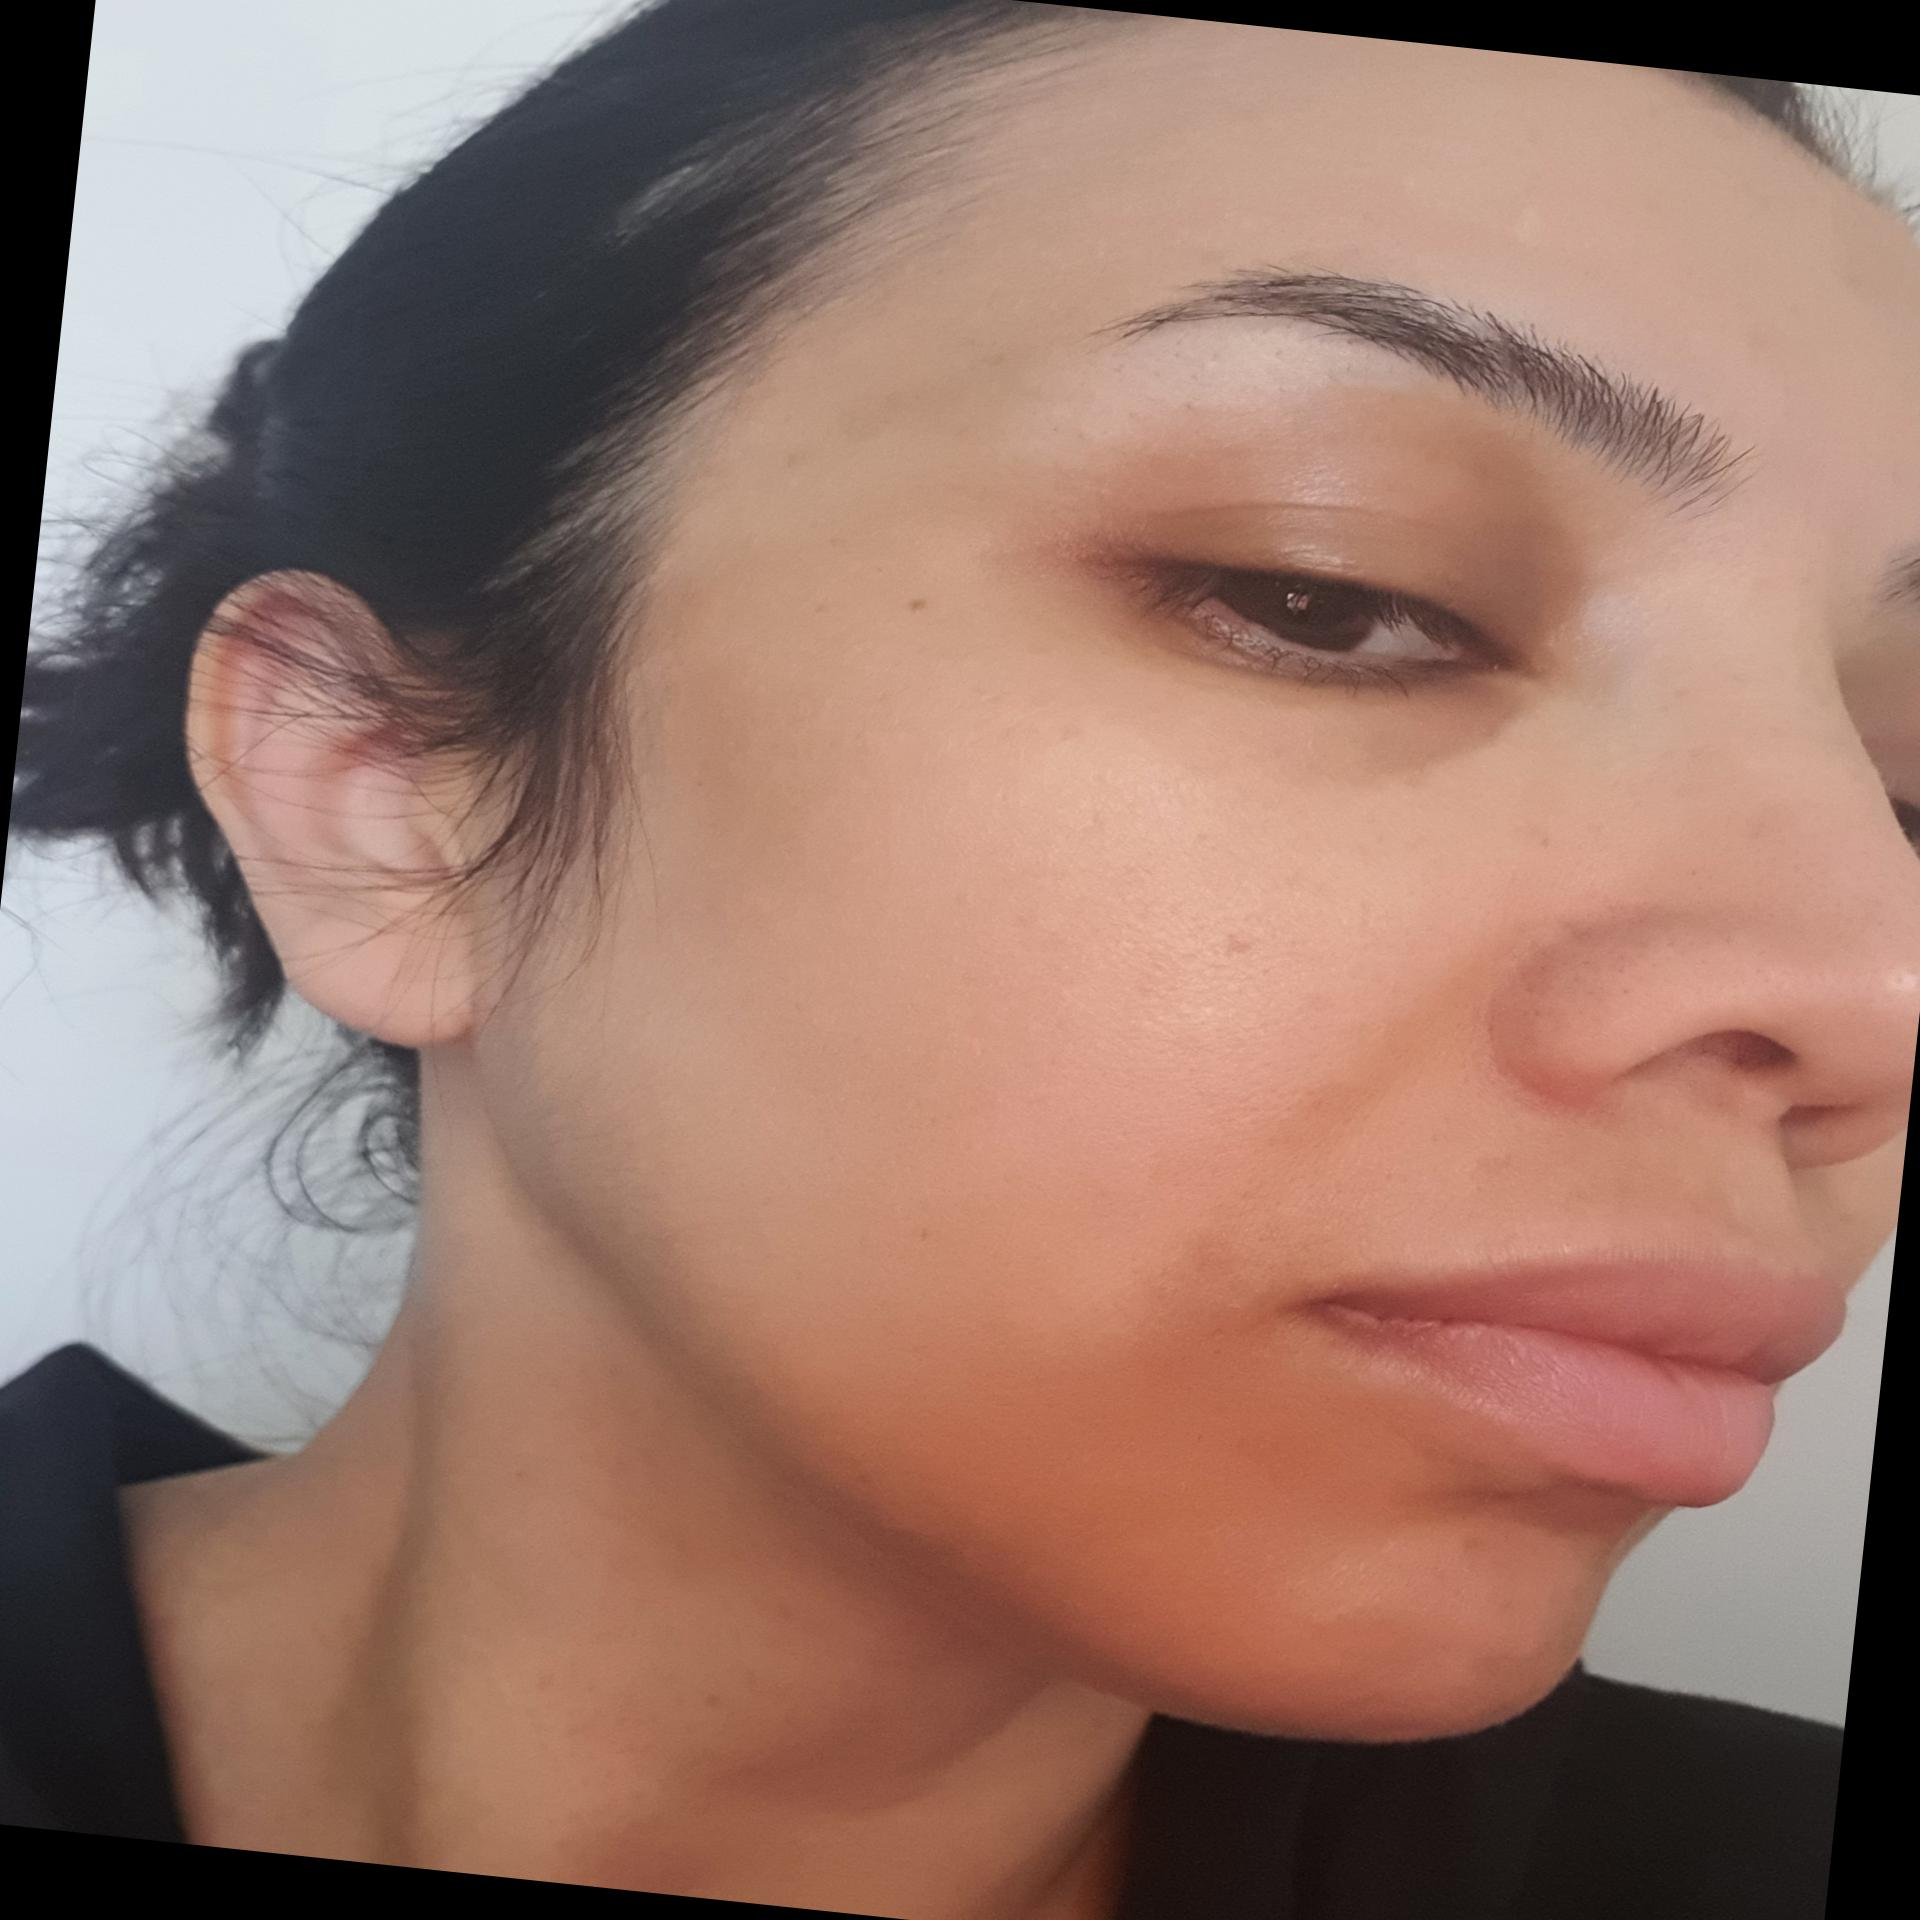Acne: (1211, 916, 1299, 992), (1440, 1524, 1500, 1575)
